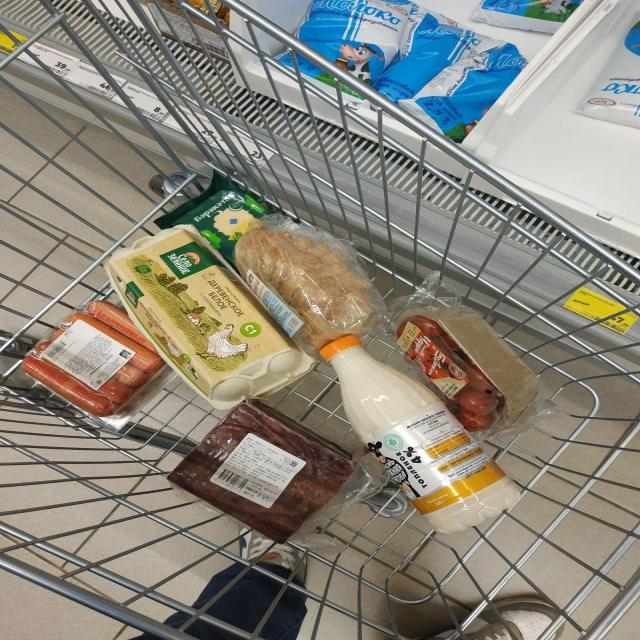cheese: (123, 112, 377, 331)
egg: (153, 188, 467, 553)
milk: (287, 276, 640, 640)
tomato: (241, 209, 640, 621), (233, 178, 640, 565), (252, 196, 640, 587), (212, 156, 626, 477)
